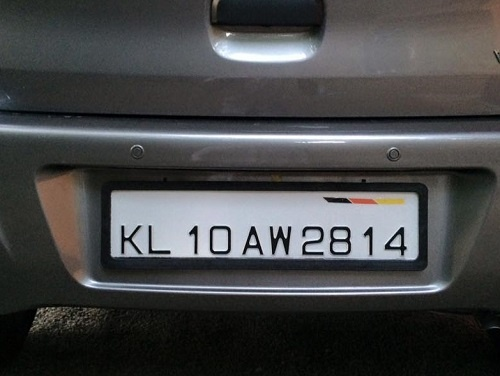number_plate: (113, 209, 420, 260)
